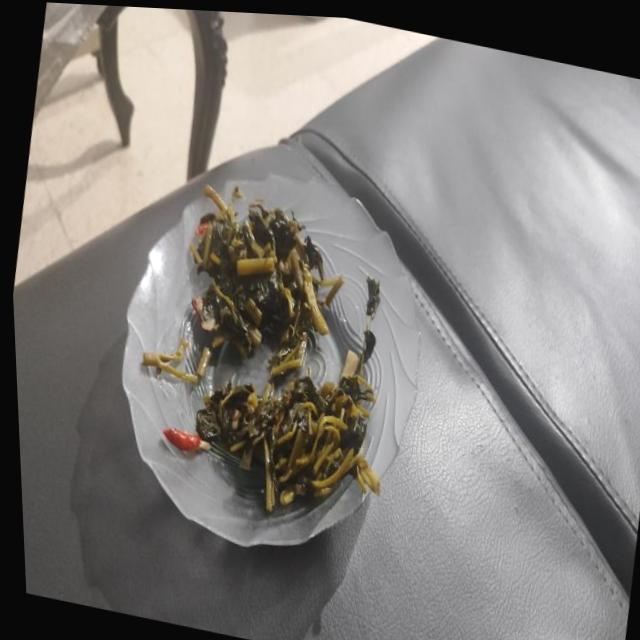tumis_kangkung: (190, 186, 344, 386), (196, 351, 380, 512)
